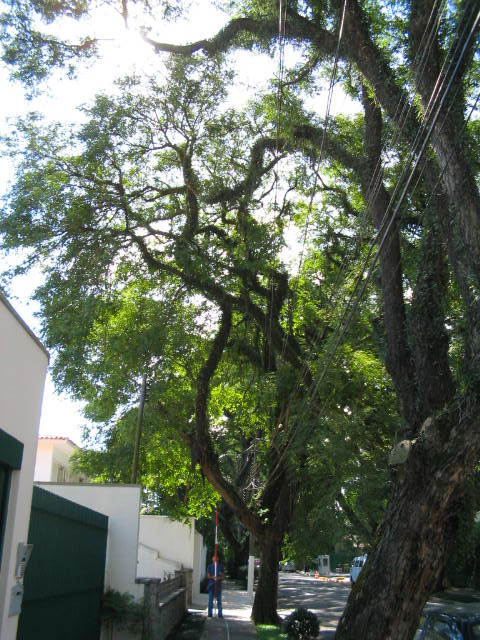stem: (325, 465, 474, 640), (243, 546, 287, 631)
stick: (210, 509, 220, 615)
tree: (42, 46, 361, 630), (275, 2, 478, 639)
